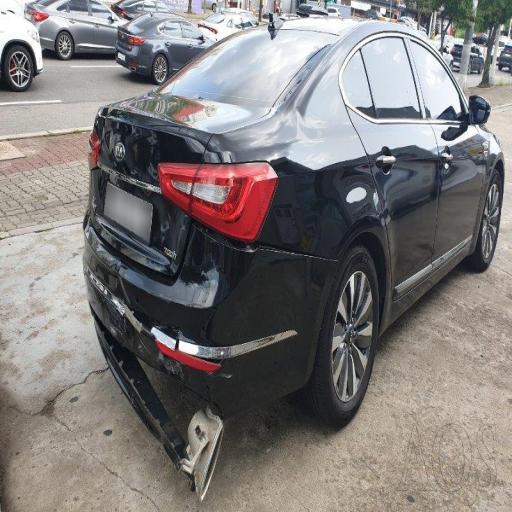broken: (68, 126, 366, 484)
